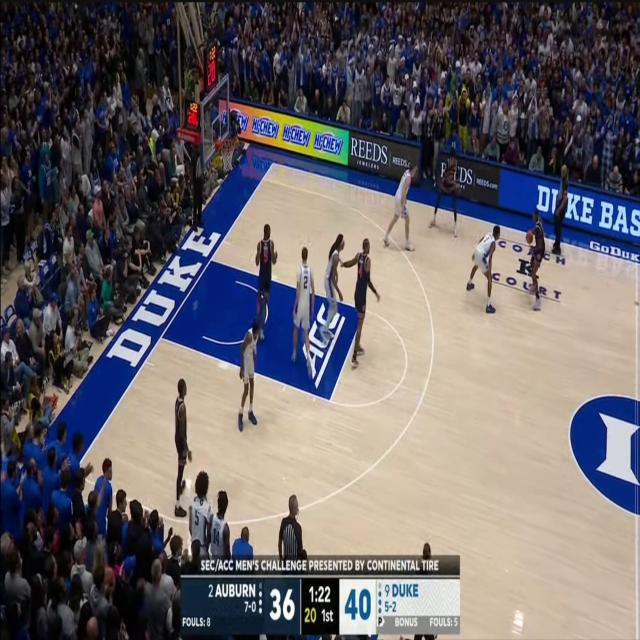basketball: (515, 214, 543, 259)
